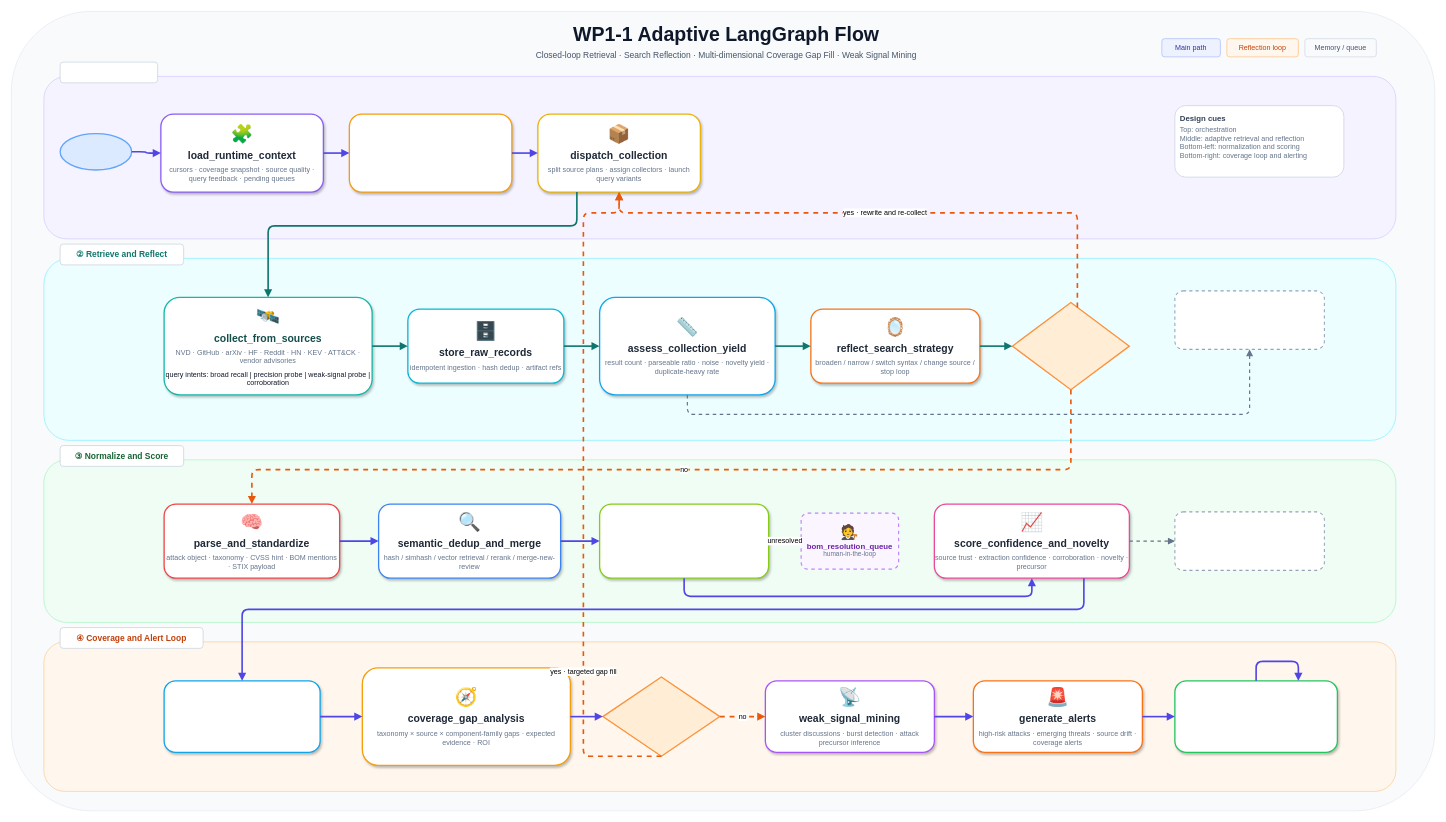
This 1446x822 diagram has some shape labels left out. Each missing label, with the centre of its shape:
START: the point at 95,151
① Orchestrate: the point at 108,72
✅ finalize_run update cursors · metrics · checkpoints · query feedback summary: the point at 1256,717
🎯 Gap fill worth it? gap high and ROI above threshold: the point at 661,716
📊 refresh_coverage_view refresh aggregated coverage snapshot: the point at 242,717
🔁 Need rewrite? yield low / noise high / source mismatch: the point at 1070,346
🗃️ artifact refs only state carries ids and summaries, not full payloads: the point at 1249,541
🧠 query_feedback_memory rewrite history · precision estimate · novelty yield: the point at 1249,320
🧬 resolve_ai_bom alias normalize · exact / alias / fuzzy match · version resolve: the point at 684,541
🧭 supervisor_plan run mode · source priority · query intent · reflection budget: the point at 431,153
